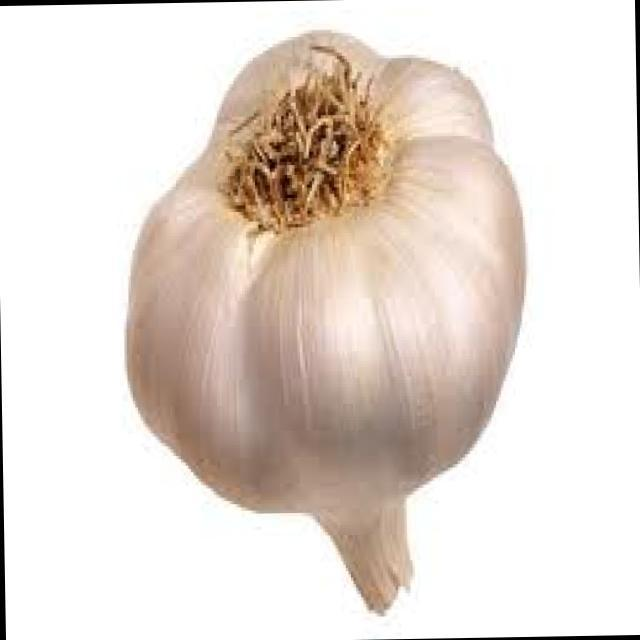Garlic: (94, 9, 556, 634)
